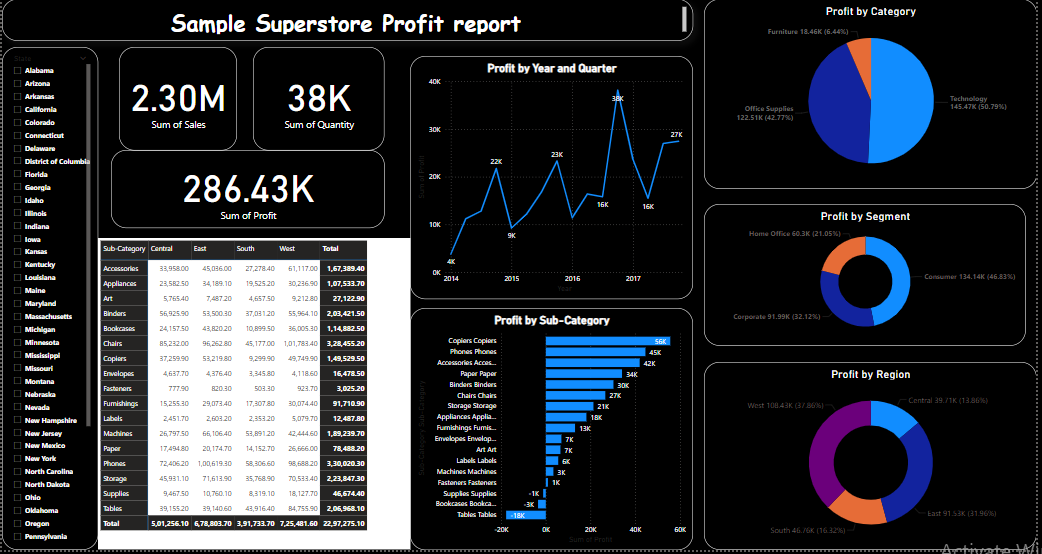

What the dashboard file says about the page in this screenshot:
{"tool":"powerbi","page":{"name":"Page 1","canvas":[2000,1065],"ordinal":0},"visuals":[{"type":"textbox","box":[0,0,1335.6,81.2],"z":0},{"type":"pieChart","title":"Profit by Category","fields":{"Category":["Superstore_dataSet_cleaned.Category"],"Y":["Sum(Superstore_dataSet_cleaned.Profit)"]},"box":[1356.9,0,643.6,367.2],"z":1000},{"type":"donutChart","title":"Profit by Segment","fields":{"Y":["Sum(Superstore_dataSet_cleaned.Profit)"],"Series":["Superstore_dataSet_cleaned.Segment"]},"box":[1356.9,396.2,622.4,274.5],"z":2000},{"type":"donutChart","title":"Profit by Region","fields":{"Y":["Sum(Superstore_dataSet_cleaned.Profit)"],"Series":["Superstore_dataSet_cleaned.Region"]},"box":[1357,701.1,643,363.4],"z":3000},{"type":"barChart","title":"Profit by Sub-Category","fields":{"Category":["Superstore_dataSet_cleaned.Sub-Category","Superstore_dataSet_cleaned.Sub-Category"],"Y":["Sum(Superstore_dataSet_cleaned.Profit)"]},"box":[788.6,597.3,547,467.7],"z":4000},{"type":"lineChart","title":" Profit by Year and Quarter","fields":{"Category":["Superstore_dataSet_cleaned.Order Date.Variation.Date Hierarchy.Year","Superstore_dataSet_cleaned.Order Date.Variation.Date Hierarchy.Quarter","Superstore_dataSet_cleaned.Order Date.Variation.Date Hierarchy.Month","Superstore_dataSet_cleaned.Order Date.Variation.Date Hierarchy.Day"],"Y":["Sum(Superstore_dataSet_cleaned.Profit)"]},"box":[788.6,110.2,547,469.7],"z":5000},{"type":"slicer","fields":{"Values":["Superstore_dataSet_cleaned.State"]},"box":[0,92.8,185.6,972.2],"z":6000},{"type":"pivotTable","fields":{"Rows":["Superstore_dataSet_cleaned.Sub-Category"],"Columns":["Superstore_dataSet_cleaned.Region"],"Values":["Sum(Superstore_dataSet_cleaned.Sales)"]},"box":[184.9,462.4,604.3,602.2],"z":7000},{"type":"card","fields":{"Values":["Sum(Superstore_dataSet_cleaned.Sales)"]},"box":[225.8,92.5,228,200],"z":8000},{"type":"card","fields":{"Values":["Sum(Superstore_dataSet_cleaned.Quantity)"]},"box":[486,92.5,253.8,200],"z":9000},{"type":"card","fields":{"Values":["Sum(Superstore_dataSet_cleaned.Profit)"]},"box":[210.8,292.5,529,150.5],"z":10000}]}

Visuals, with their boxes in screenshot pixels (x1, y1, x2, y2), scaled from the page's 2000x1065 canvas onto the 1042x554 screenshot:
textbox: rect(0, 0, 696, 42)
"Profit by Category" pieChart: rect(707, 0, 1041, 191)
"Profit by Segment" donutChart: rect(707, 206, 1031, 349)
"Profit by Region" donutChart: rect(707, 365, 1041, 553)
"Profit by Sub-Category" barChart: rect(411, 311, 696, 553)
" Profit by Year and Quarter" lineChart: rect(411, 57, 696, 302)
slicer - Superstore_dataSet_cleaned.State: rect(0, 48, 97, 553)
pivotTable - Superstore_dataSet_cleaned.Sub-Category x Superstore_dataSet_cleaned.Region: rect(96, 241, 411, 553)
card - Sum(Superstore_dataSet_cleaned.Sales): rect(118, 48, 236, 152)
card - Sum(Superstore_dataSet_cleaned.Quantity): rect(253, 48, 385, 152)
card - Sum(Superstore_dataSet_cleaned.Profit): rect(110, 152, 385, 230)
